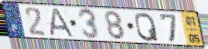2: (25, 7, 47, 38)
3: (78, 6, 100, 42)
7: (159, 13, 179, 44)
8: (103, 10, 126, 41)
A: (47, 8, 76, 38)
Q: (134, 12, 161, 43)
